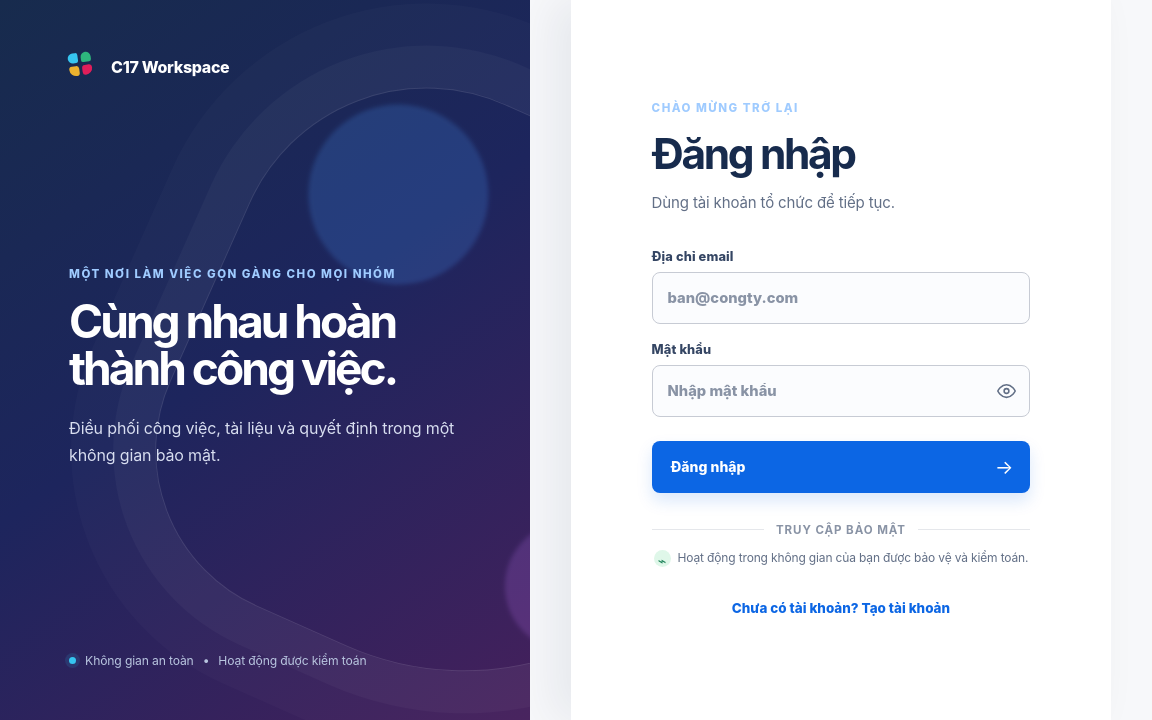
Test: LoginForm › exposes labelled inputs and announces an unsuccessful sign-in
Type "person@example.test" into the field named "Email address" at x=841, y=298, box [652,272,1030,324]
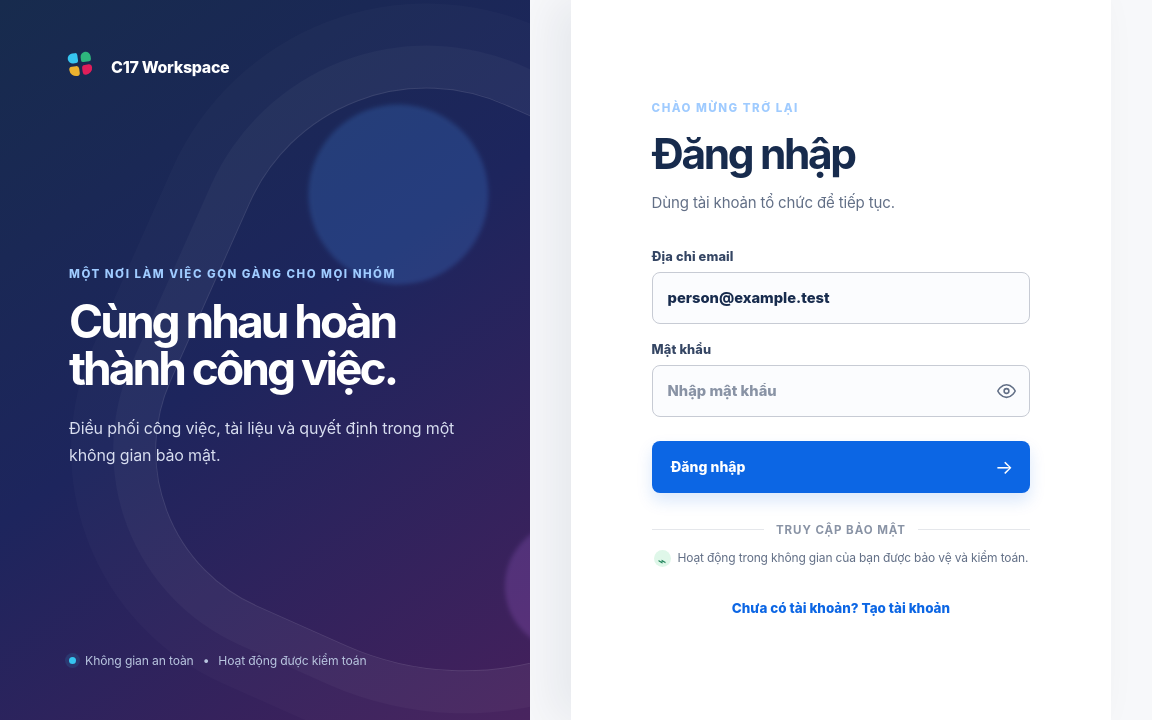
Type "wrong" into the password field named "Password" at x=841, y=391, box [652,365,1030,417]
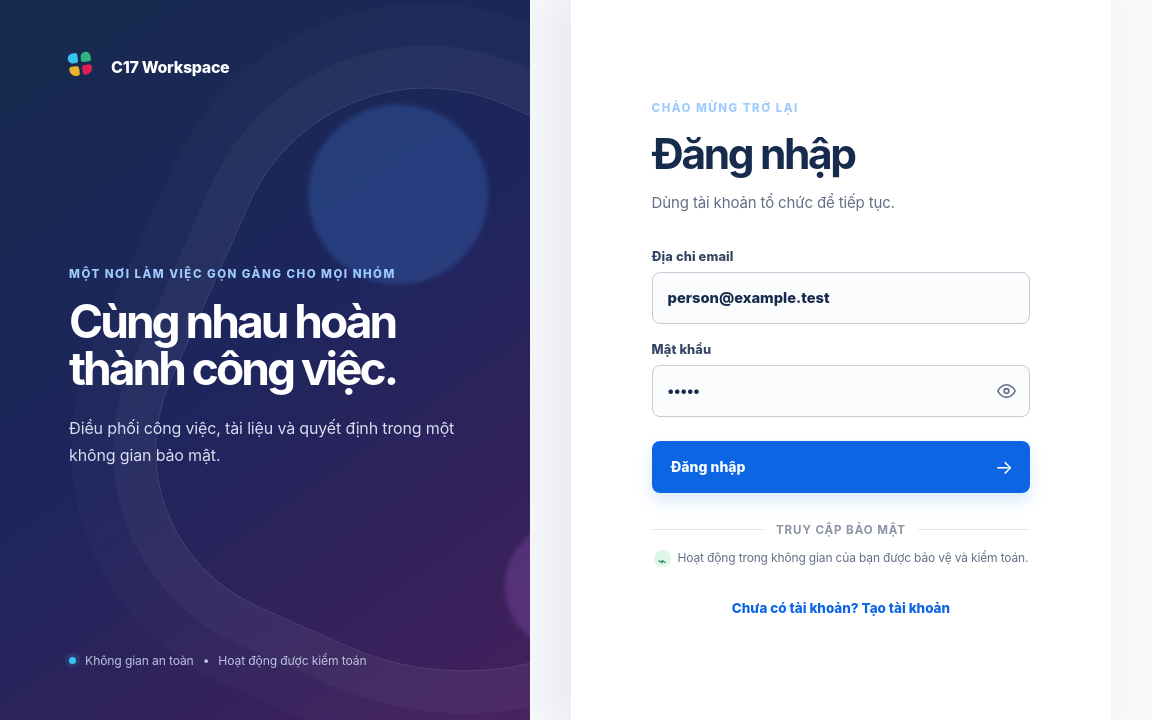
Click the button with aria-label "Sign in" at x=708, y=467, box [652,441,1030,493]
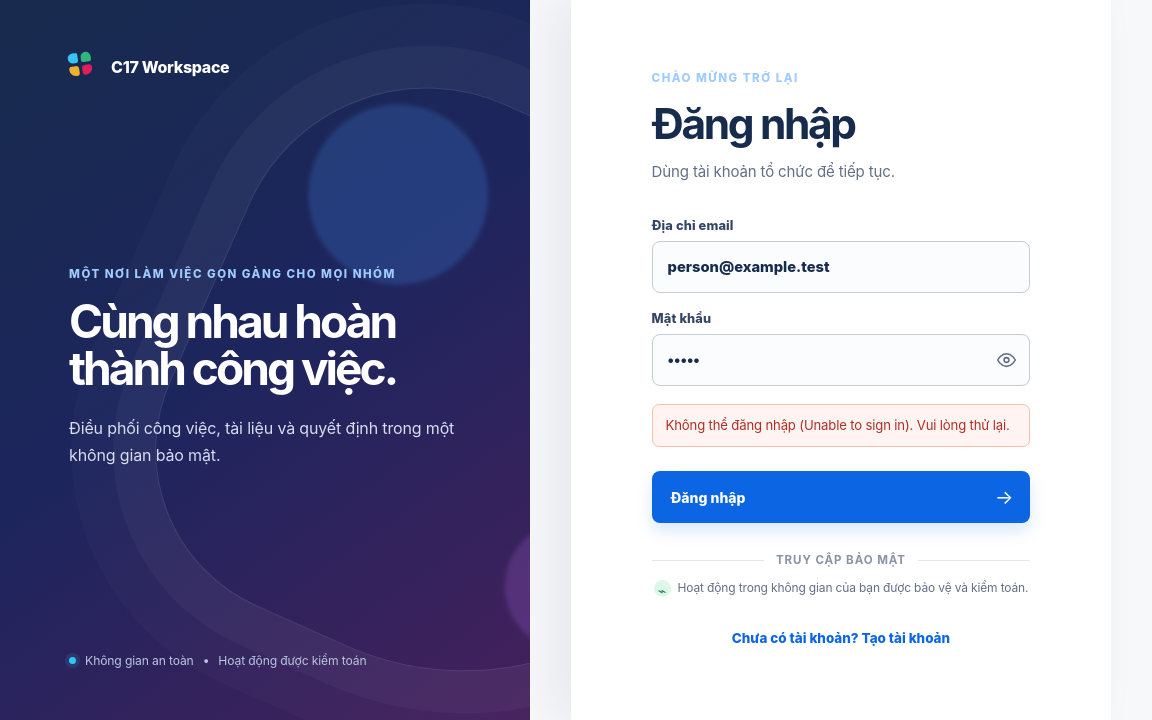
expect the message shows "Unable to sign in": met, box [666,417,1010,433]
